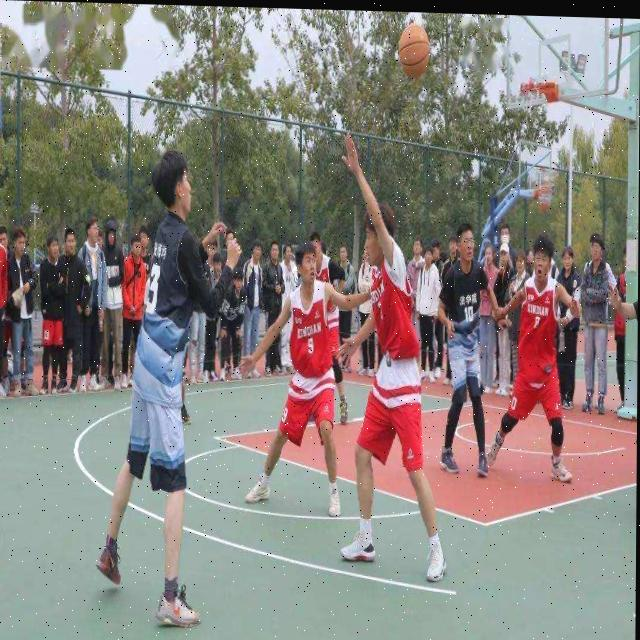basketball: (399, 23, 431, 79)
hoop: (520, 79, 556, 130)
